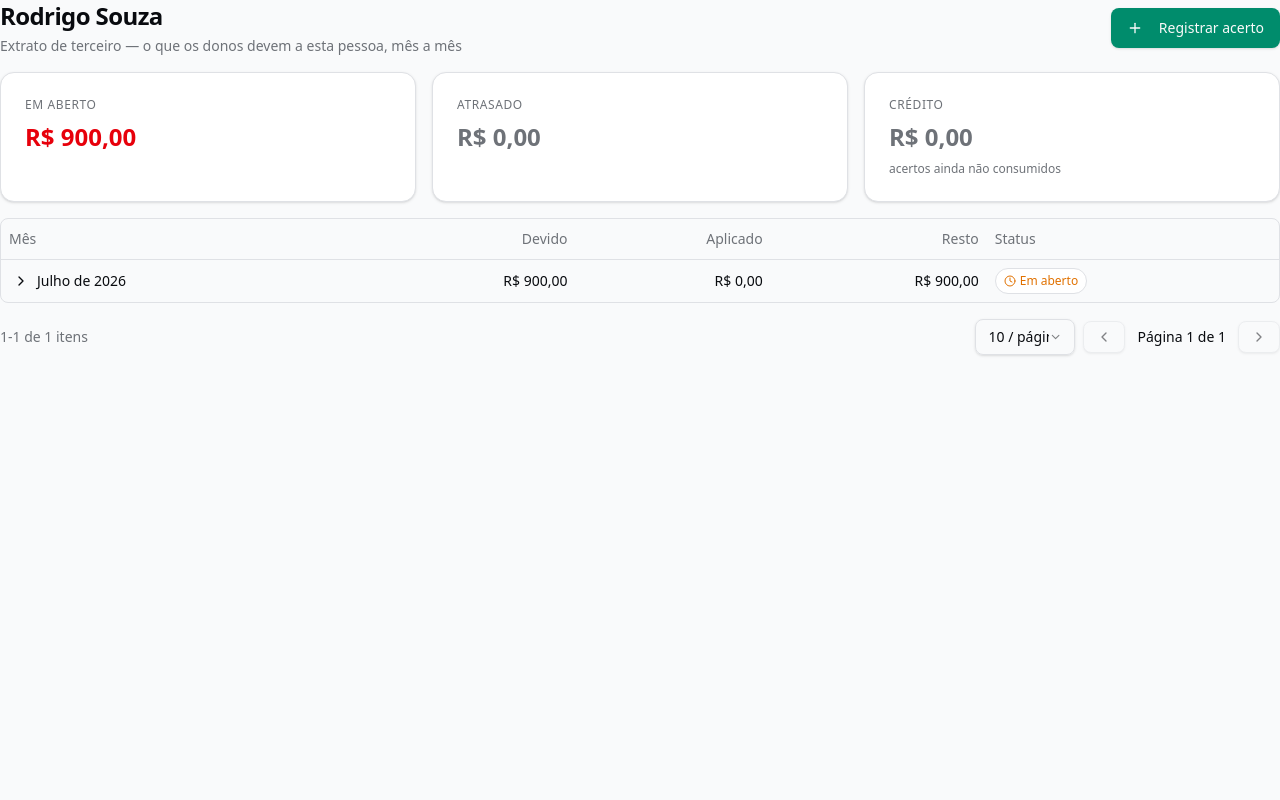
third-party debt flow (real hooks + page, MSW boundary) › runs compra de terceiro → extrato da pessoa → acerto → saldo devido baixa
Check: the heading "Rodrigo Souza" is shown, box [0,0,163,32]
Click the button named "detalhes de" at (21, 280), box [9,268,33,292]
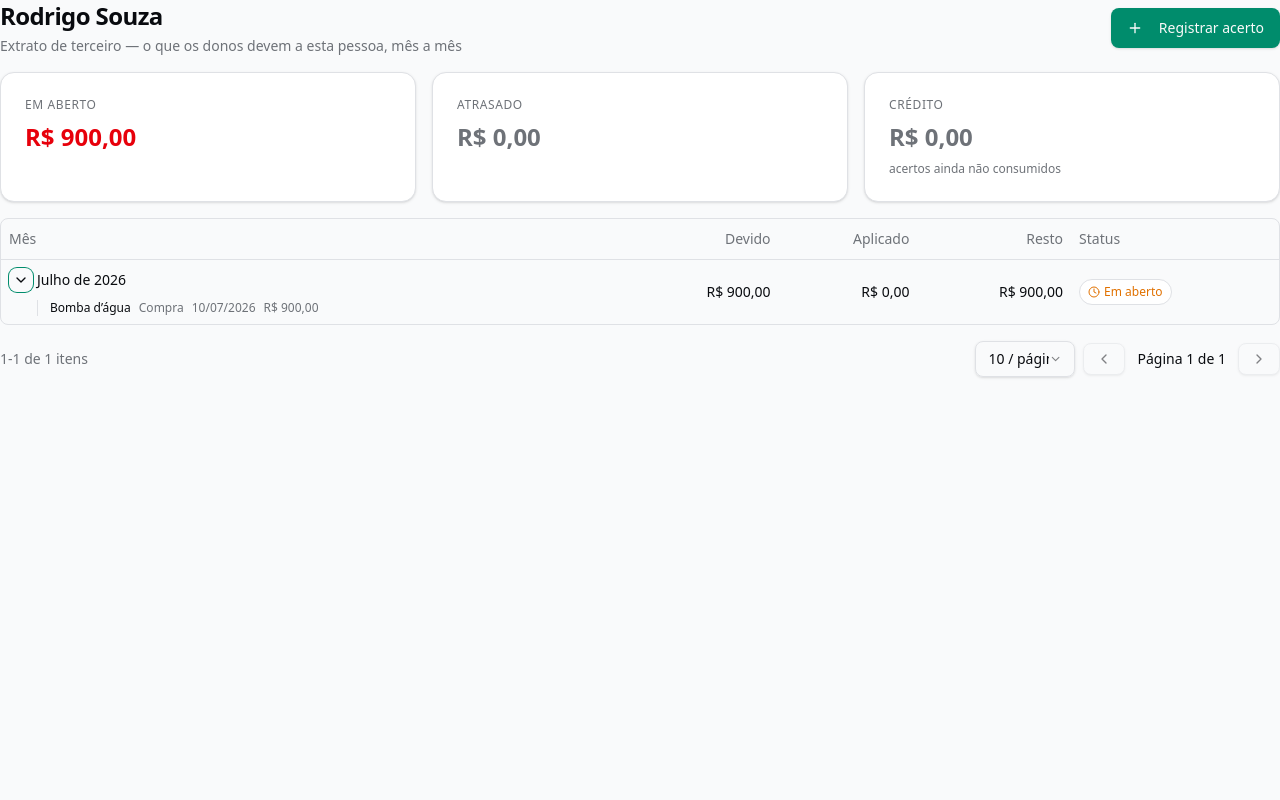
Check: the text "Bomba d’água" is shown, box [50,300,131,316]
Check: the text "Compra" is shown, box [139,300,184,316]
// Acerto — partial, through the real "Registrar acerto" modal.
Click the button "Registrar acerto" at (1195, 28), box [1111,8,1279,48]
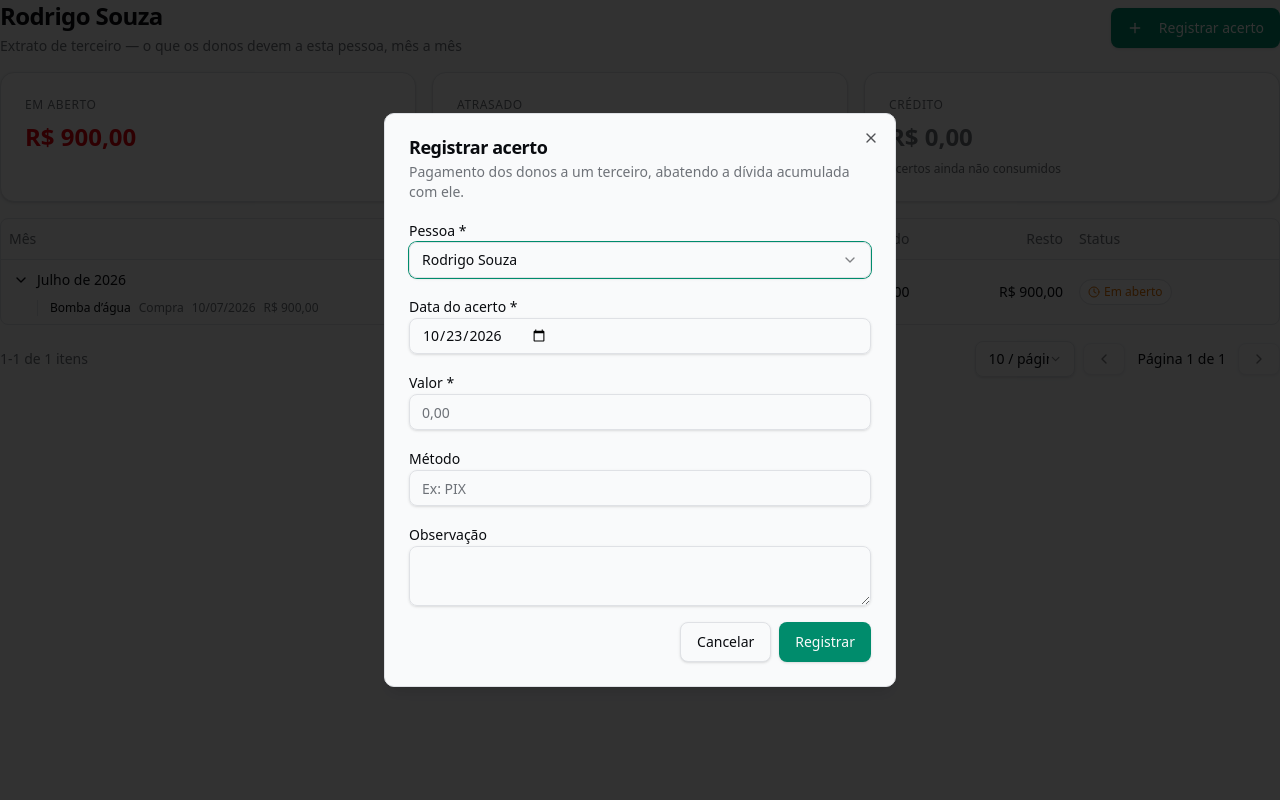
Type "400" into the number field labelled "Valor *" at (640, 412), box [409,394,871,430]
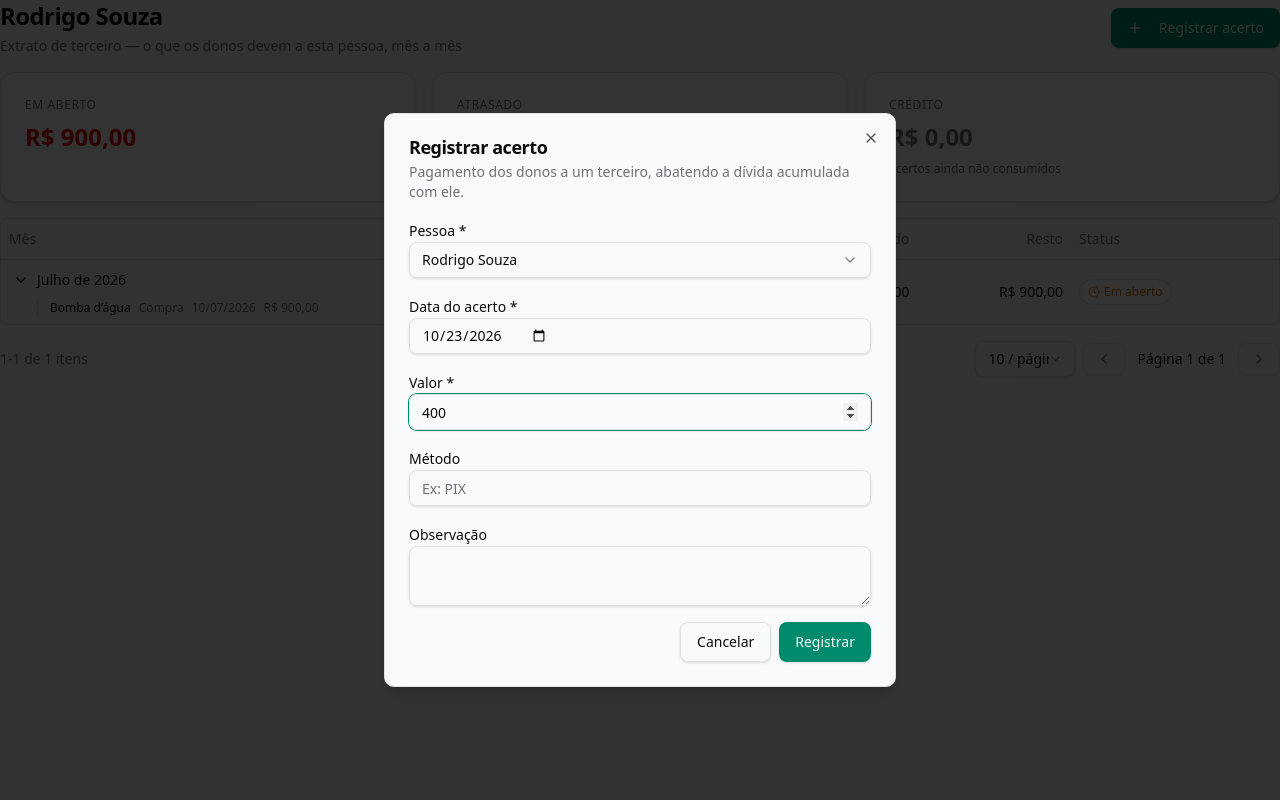
Click the button "Registrar" at (825, 642), box [779,622,871,662]
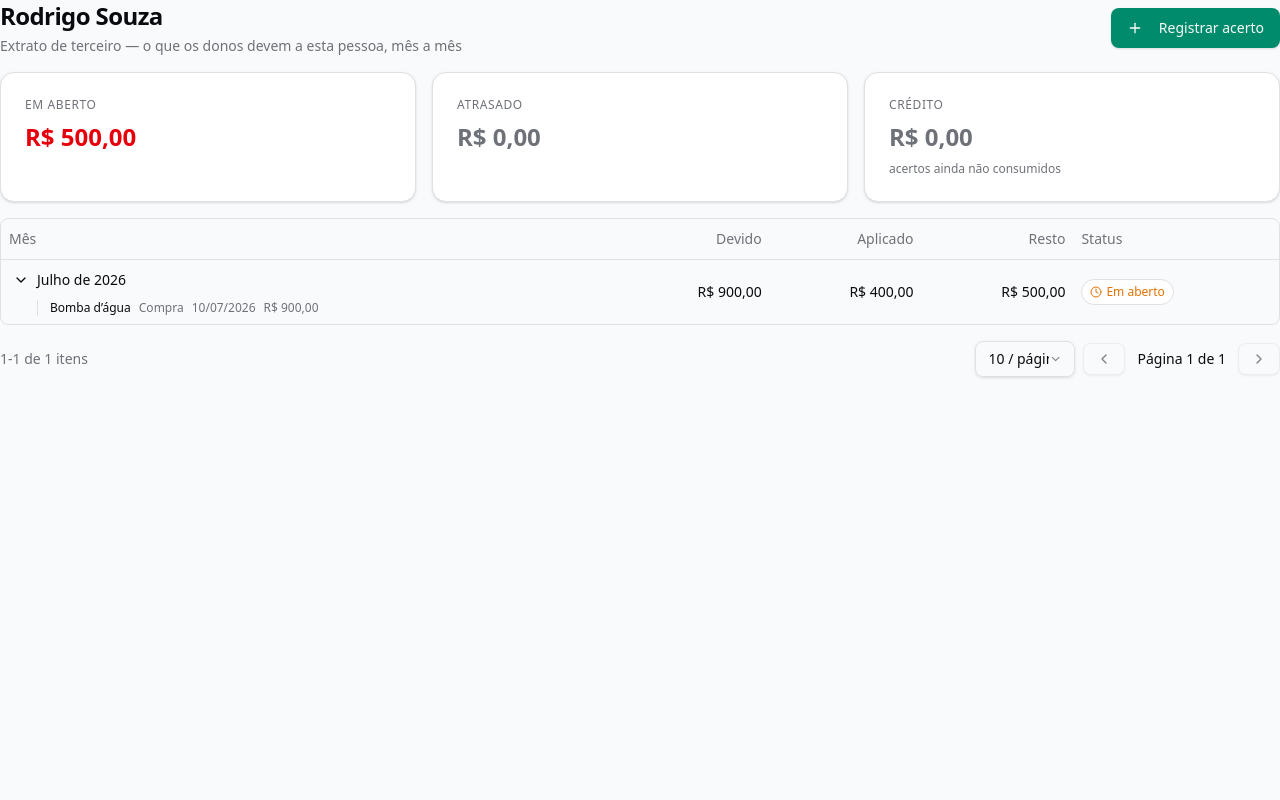
Check: the text "R$ 900,00" is shown, box [264,300,318,316]
Check: the text "R$ 500,00" is shown, box [25,120,136,153]
